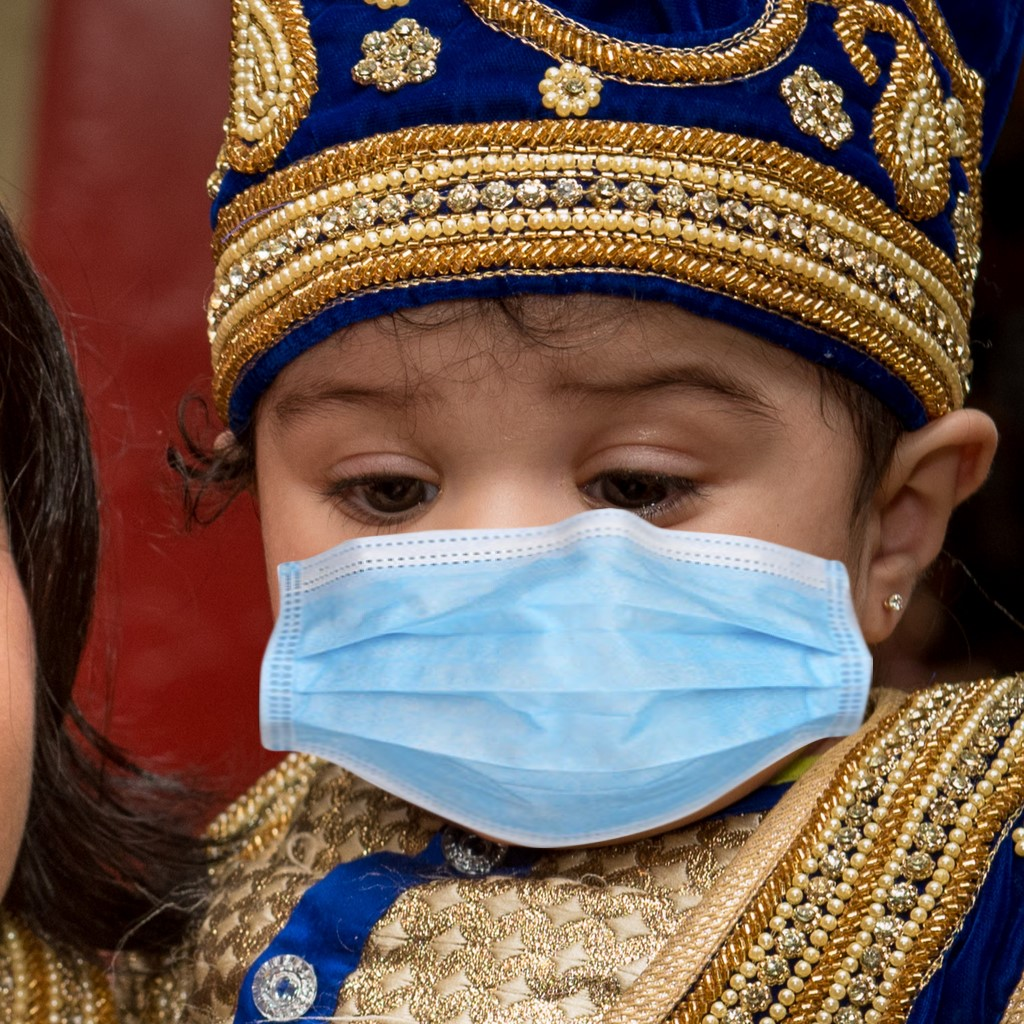con_mascara: (256, 241, 882, 851)
